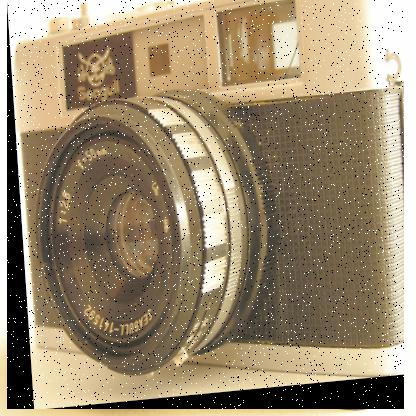Camera: (8, 1, 406, 411)
